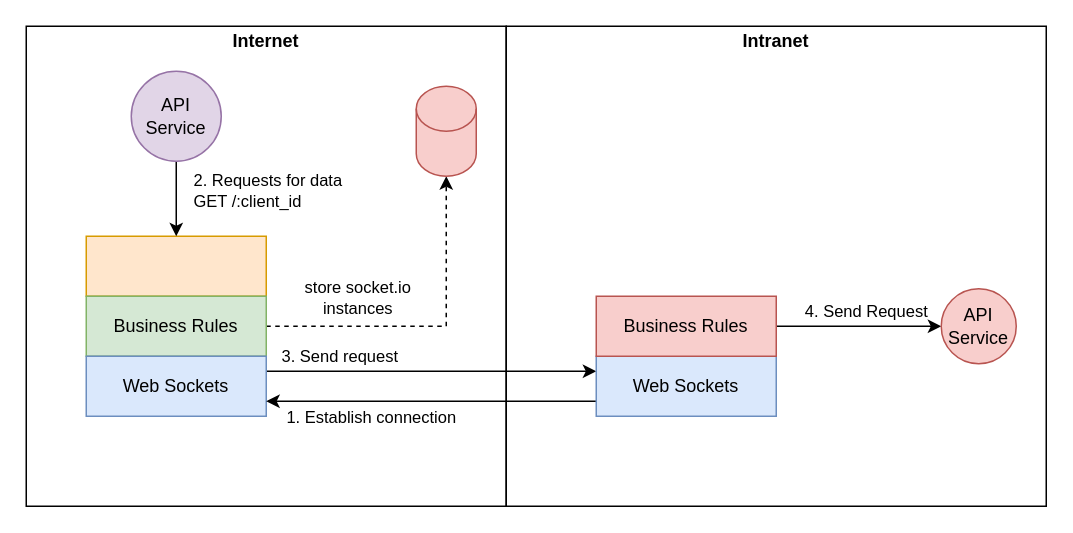
This 1073x533 diagram has some shape labels left out. The centre of each missing label's shape, as x and y in pixels:
API Level: [175,265]
Redis: [445,130]
